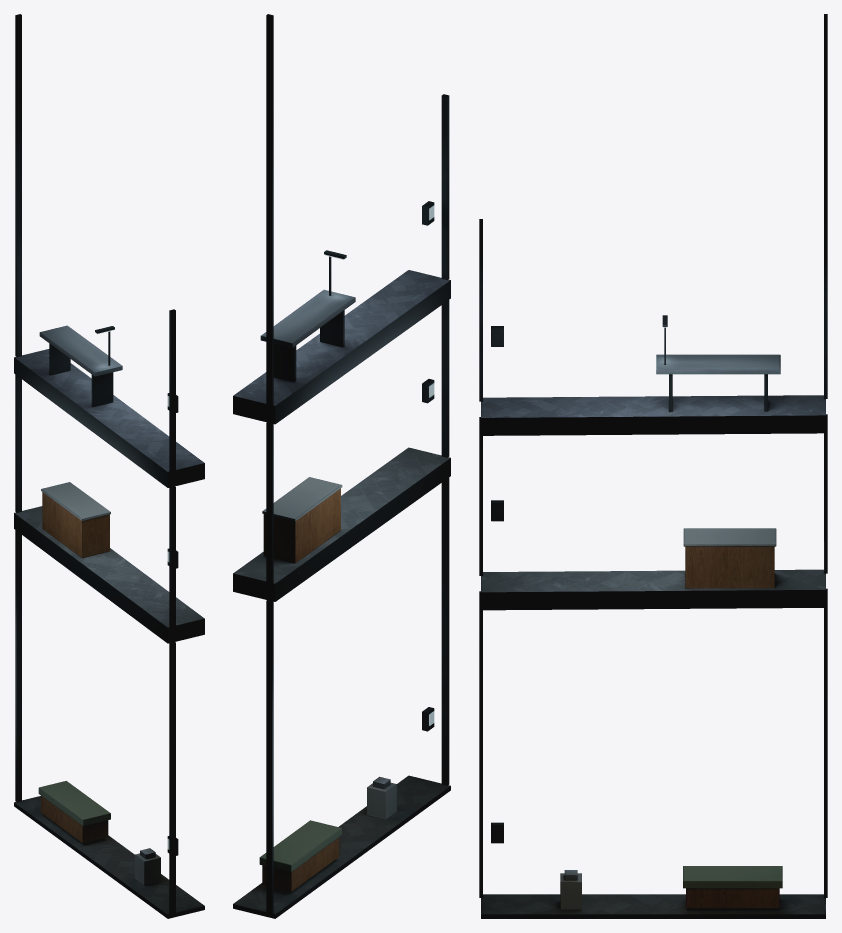
File: smart-front-v02.glb
The picture shows the model from 3 angles, left to right: view 1: azimuth 30°, elevation 25°; view 2: azimuth 150°, elevation 25°; view 3: azimuth 270°, elevation 25°; orthographic projection. The views are drawn at different scales.
Parts seen in each view (by area): view 1: SMART_BAKED_FRONT; view 2: SMART_BAKED_FRONT; view 3: SMART_BAKED_FRONT.
Boxes of the visible parts, x1,y1,x2,y2 form: SMART_BAKED_FRONT: (14, 14, 204, 918); SMART_BAKED_FRONT: (233, 14, 450, 918); SMART_BAKED_FRONT: (479, 14, 827, 918).
Size of the model in its own units: 0.332 by 6.77 by 2.41.
Materials: 1 (1 with a texture image).
